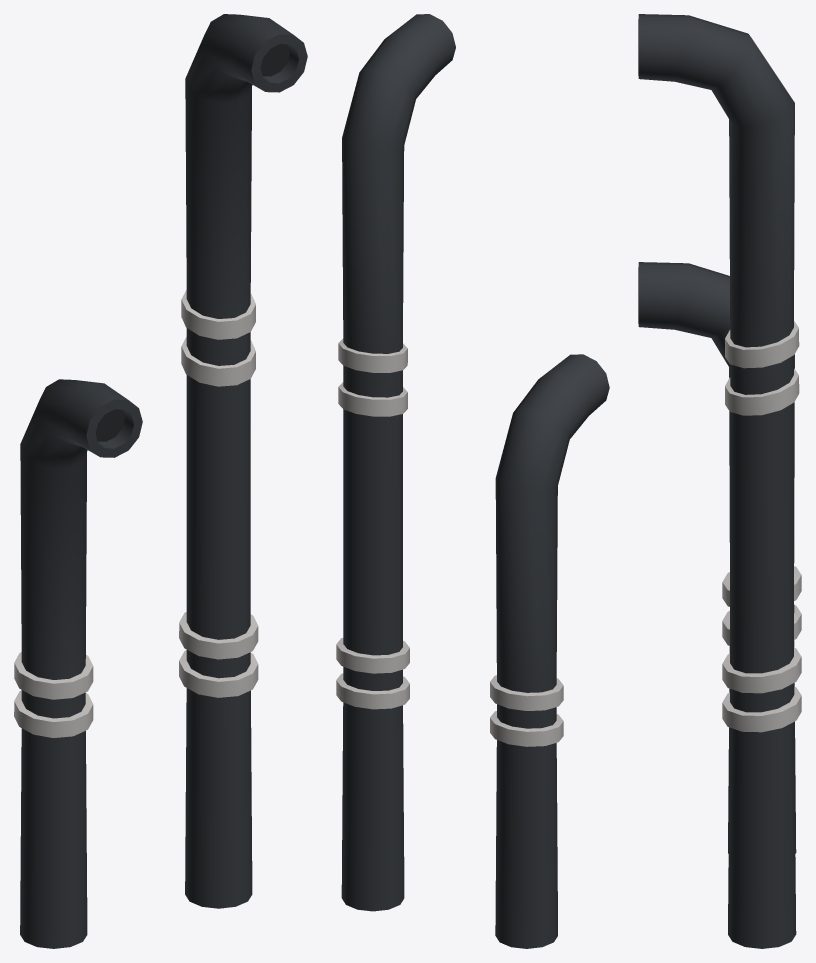
The model's file is Chimney_3.fbx.
3 renders of one model, left to right at view 1: azimuth 30°, elevation 25°; view 2: azimuth 150°, elevation 25°; view 3: azimuth 270°, elevation 25°, orthographic. The views are drawn at different scales.
Visible parts, largest first — view 1: Chimney_3; view 2: Chimney_3; view 3: Chimney_3.
Boxes of the visible parts, x1,y1,x2,y2 form: Chimney_3: [14, 14, 307, 948]; Chimney_3: [336, 14, 609, 948]; Chimney_3: [638, 14, 801, 948].
Bounding box in the file's own units: 52.1 × 193 × 31.13.
